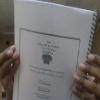notebook: (11, 0, 98, 99)
